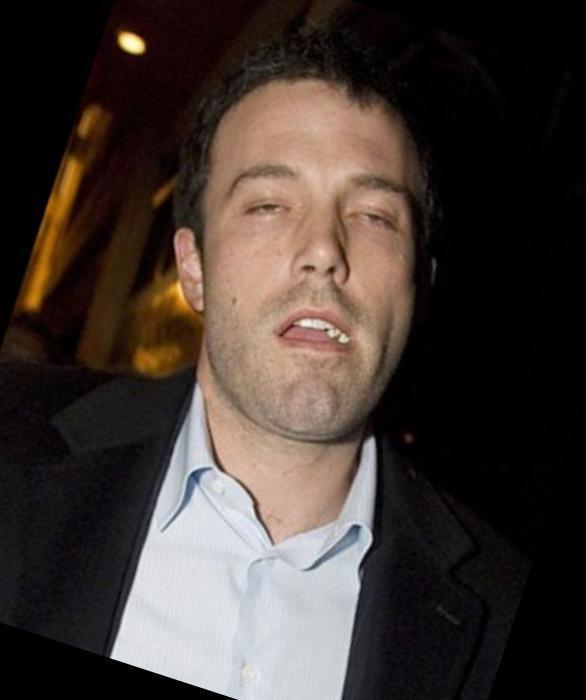Drunk: (221, 92, 403, 408)
